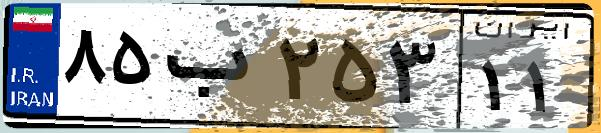1: (475, 38, 525, 113), (525, 38, 570, 115)
2: (270, 28, 330, 110)
3: (385, 28, 445, 110)
5: (330, 28, 385, 110), (110, 28, 158, 98)
8: (57, 26, 110, 100)
ب: (158, 20, 270, 120)
